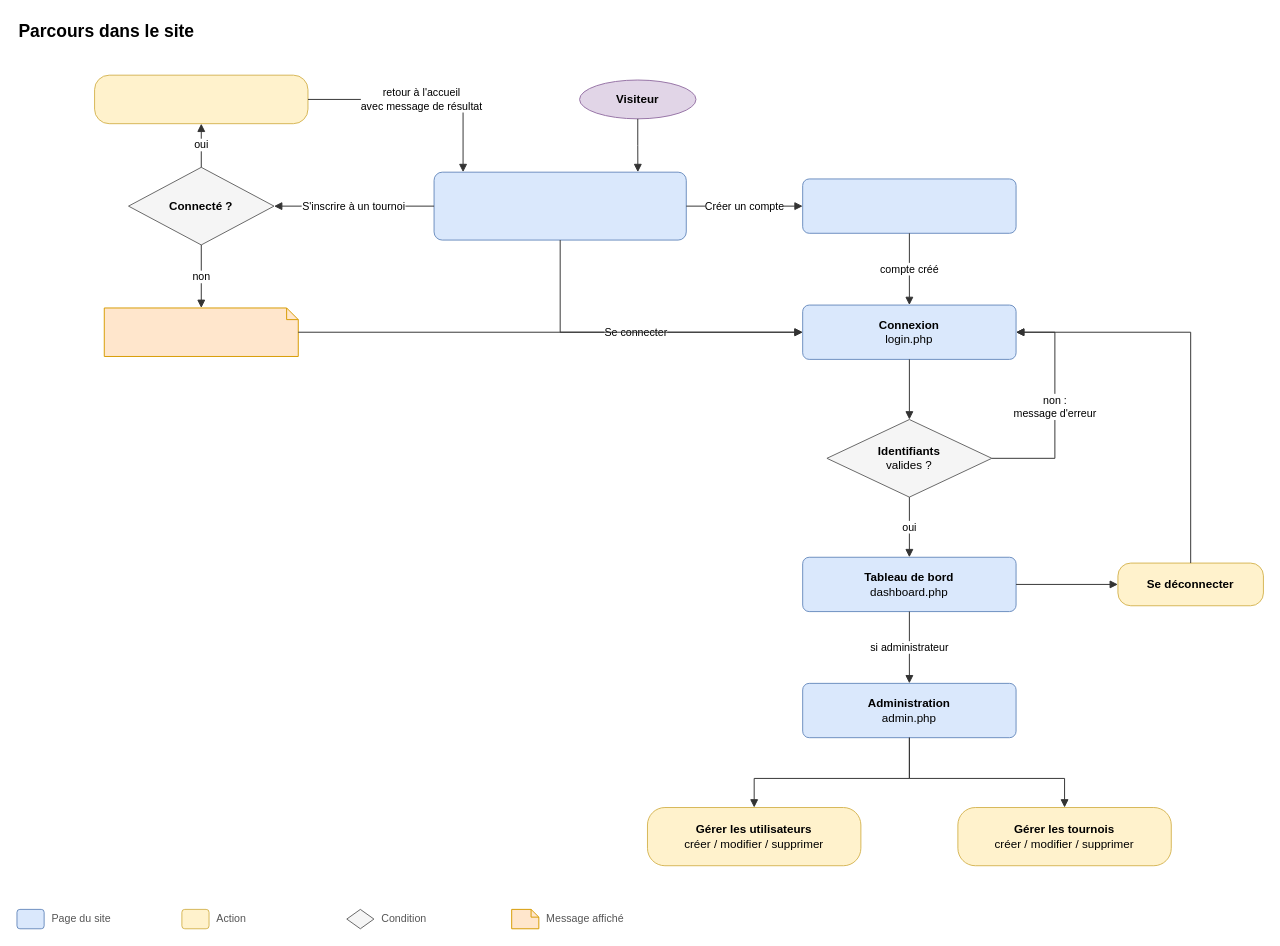
The diagram is 1280 pixels wide and 946 high, and some of its shapes have lost their labels. The shapes that lost their labels are listed below. From the top down, each one's centre as x and y in pixels, then its label:
At pixel 201 99: "Envoi de la demande d'inscription au tournoi".
At pixel 559 205: "Accueil (index.php) consulter les tournois à venir, en cours et passés".
At pixel 909 205: "Inscription register.php".
At pixel 200 331: "Invitation à se connecter".
